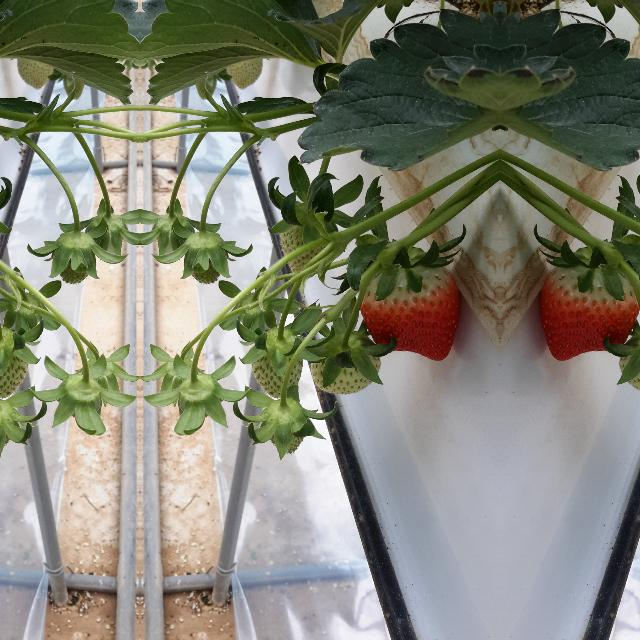Health_100: (538, 265, 640, 363), (361, 265, 462, 363)
Health_25: (314, 332, 380, 406), (277, 200, 337, 276), (244, 334, 304, 402), (0, 334, 35, 401), (620, 332, 640, 405)
